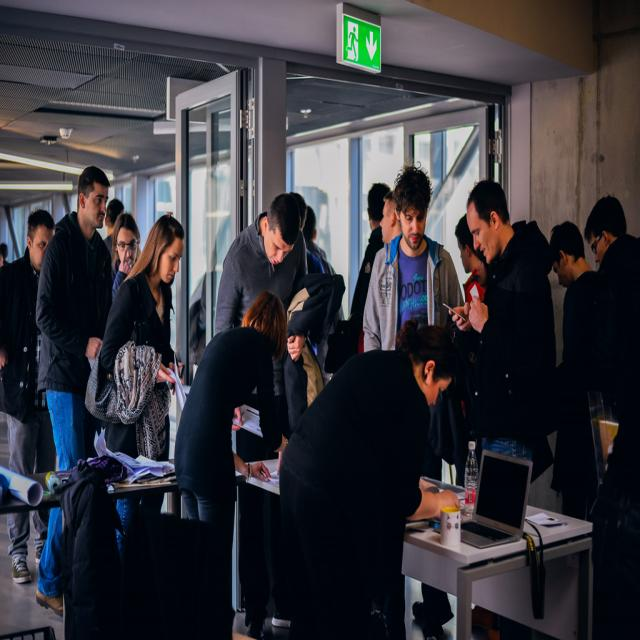desk: (235, 456, 592, 640)
laptop: (458, 452, 533, 555)
person: (279, 321, 461, 635), (172, 289, 288, 635), (458, 179, 558, 495), (583, 197, 640, 634), (548, 216, 623, 536), (90, 213, 186, 461), (35, 164, 113, 468), (0, 206, 56, 586), (359, 167, 465, 357), (214, 192, 310, 346), (336, 181, 396, 360), (111, 214, 141, 298), (102, 199, 124, 258)
